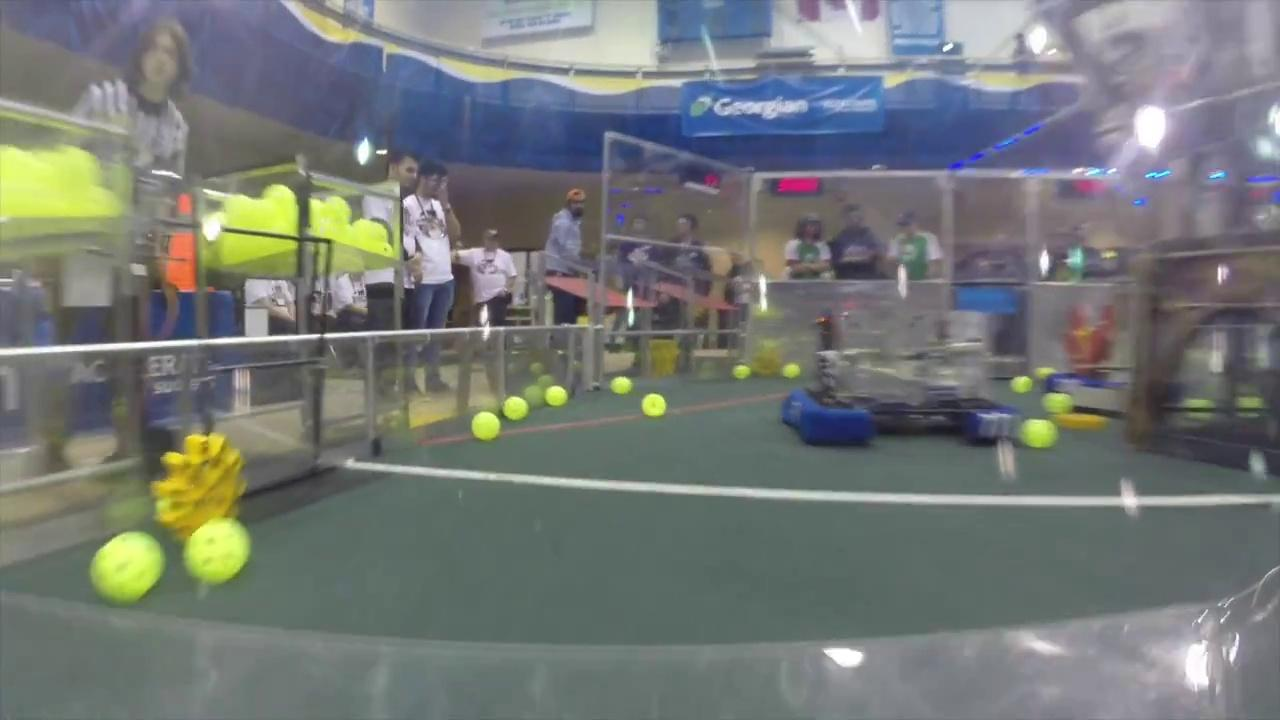robot: (783, 296, 1020, 456)
